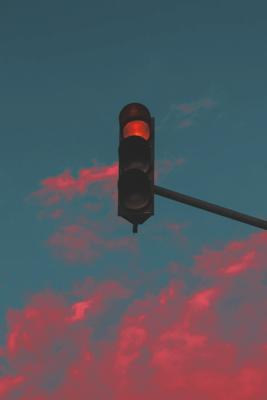International Road Signal Light: (115, 103, 155, 230)
